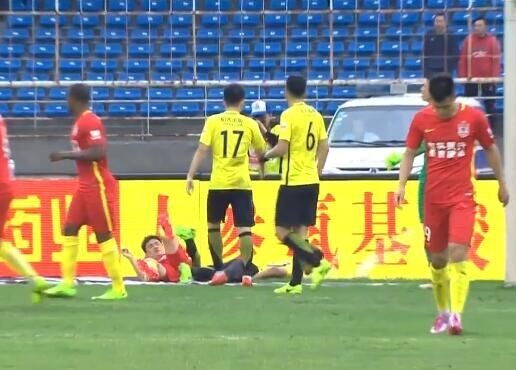falling: (117, 227, 198, 286)
